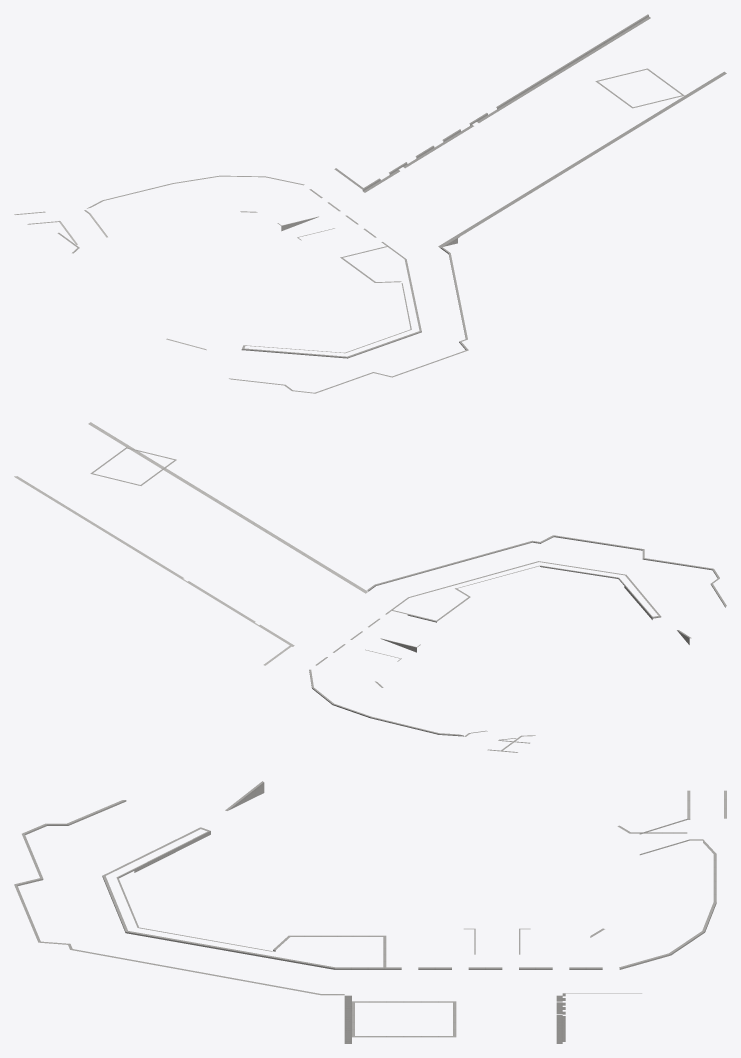
File: kd_stage_135ebf_1_4.glb
The picture shows the model from 3 angles, top to bottom: view 1: azimuth 30°, elevation 25°; view 2: azimuth 150°, elevation 25°; view 3: azimuth 270°, elevation 25°; orthographic projection. The views are drawn at different scales.
Parts seen in each view (by area): view 1: kd_stage_135ebf_1_4; view 2: kd_stage_135ebf_1_4; view 3: kd_stage_135ebf_1_4.
Part boxes in pixels (x1,y1,x2,y2): kd_stage_135ebf_1_4: [14, 14, 726, 393]; kd_stage_135ebf_1_4: [14, 422, 726, 752]; kd_stage_135ebf_1_4: [14, 781, 726, 1043].
Size of the model in its own units: 64.07 by 12.15 by 47.91.
1 material, 1 textured.
